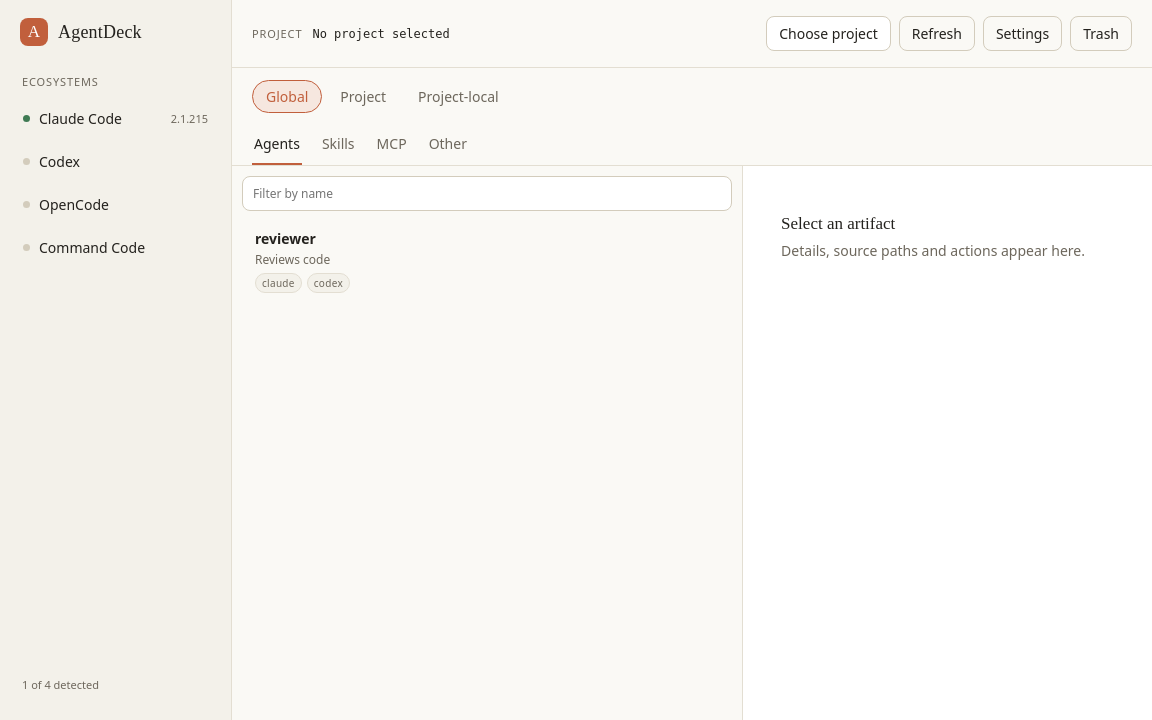
Test case: App shell › names every affected ecosystem before disabling a shared artifact
Click the text "reviewer": (285, 238) [255,229,316,248]
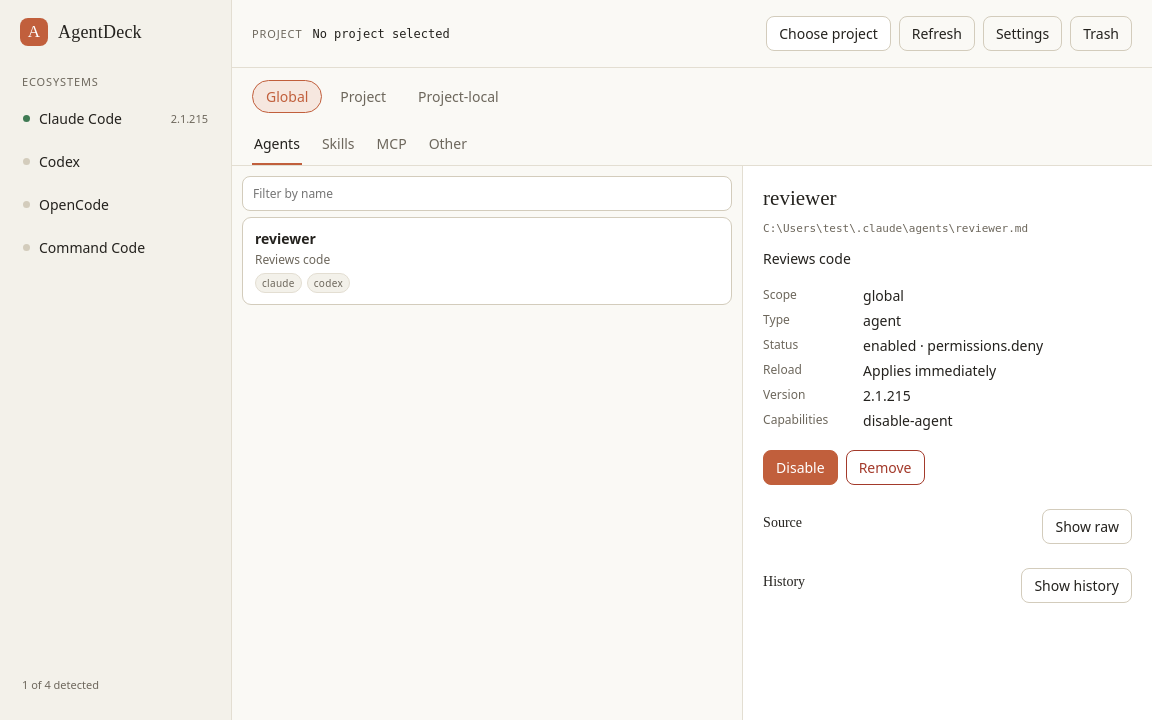
Click the button "Disable": (800, 468) [763,450,838,485]
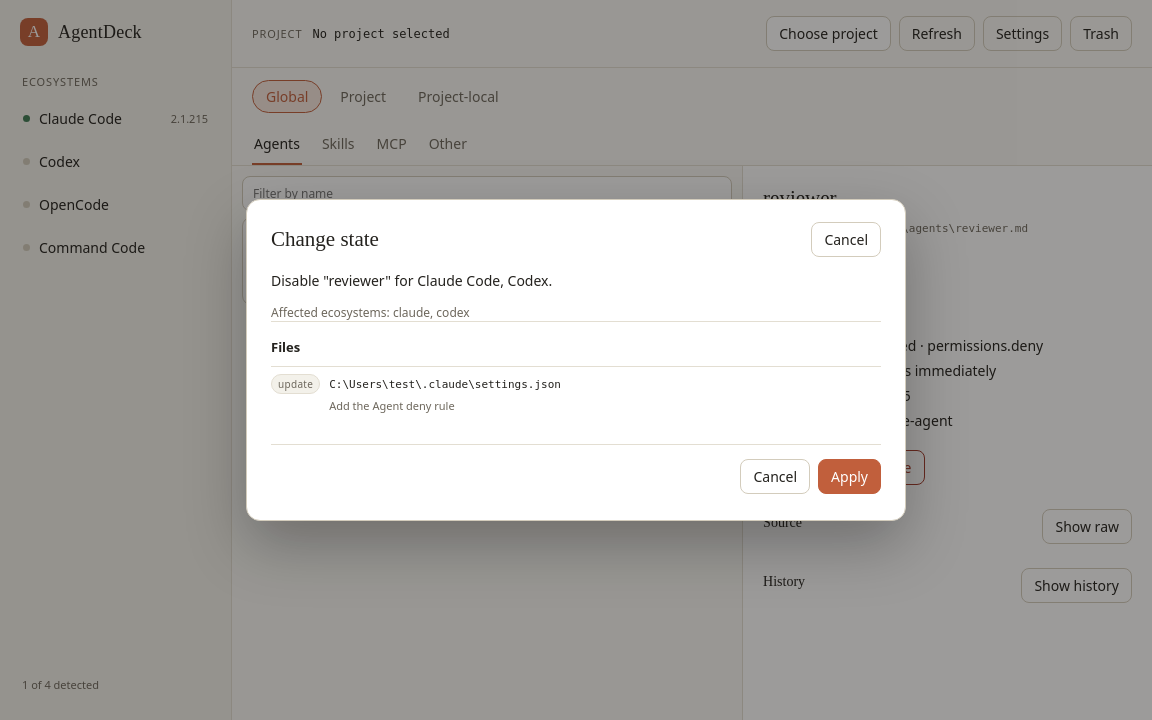
Expected: the text "Affected ecosystems: claude, codex" is shown, [271,304,470,321]
Click the button "Apply": (850, 476) [818,459,881,494]
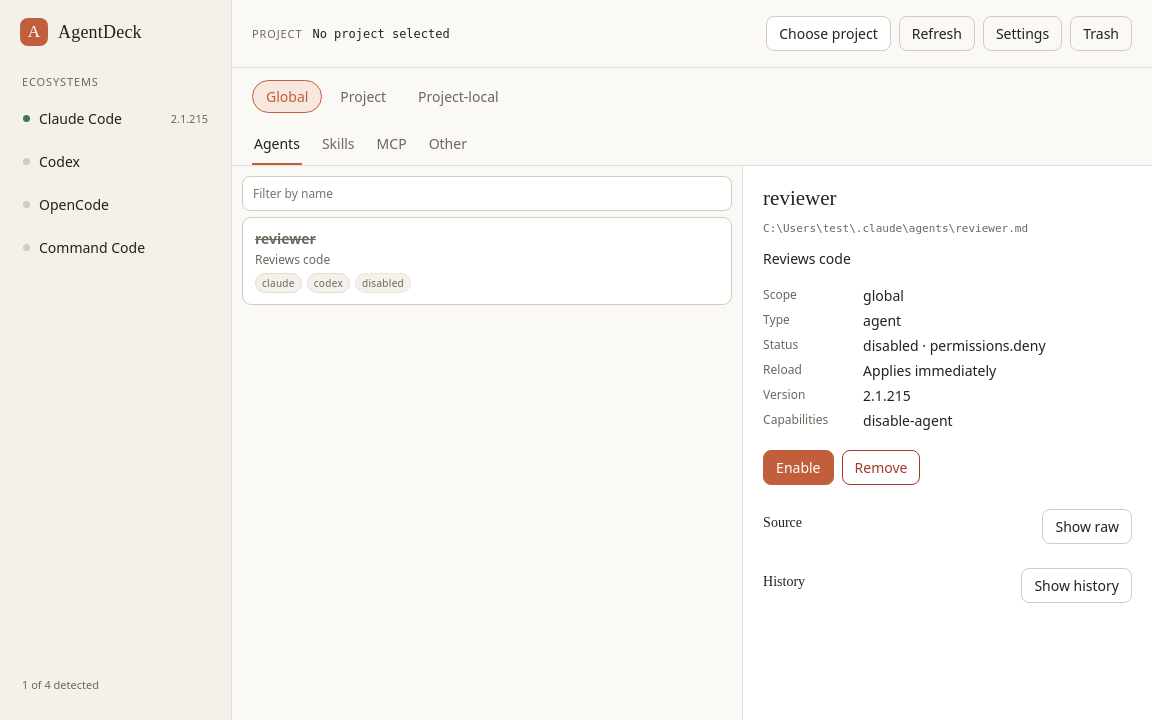
Expected: the text "disabled" is shown, [355,273,411,293]
